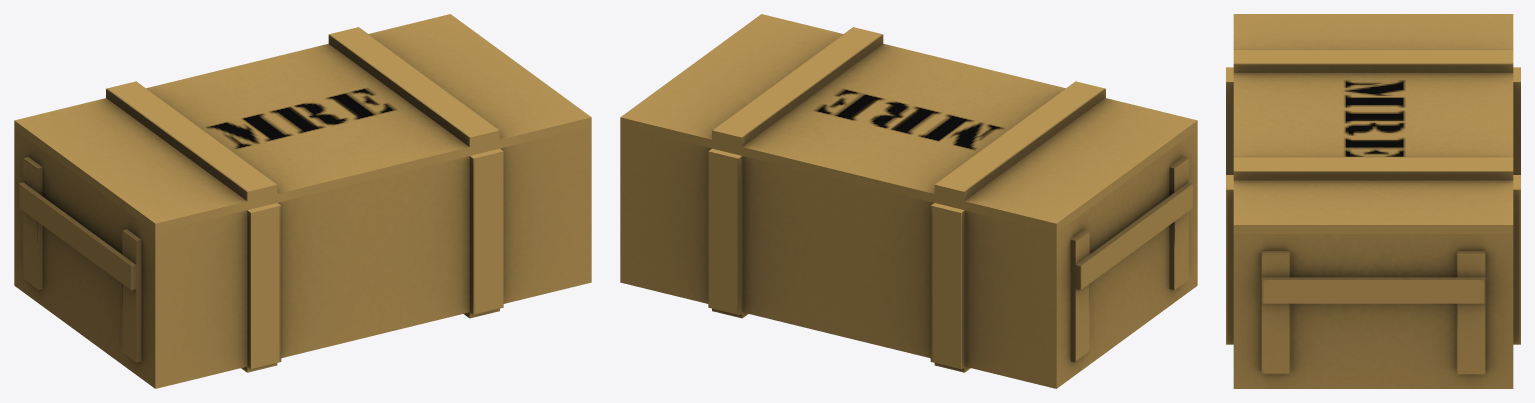
Rendered from Crate_Food.fbx.
3 views of the same model, side by side, from view 1: azimuth 30°, elevation 25°; view 2: azimuth 150°, elevation 25°; view 3: azimuth 270°, elevation 25° (orthographic).
Visible parts, largest first — view 1: Crate_Food, Crate_Med_Top; view 2: Crate_Food, Crate_Med_Top; view 3: Crate_Med_Top, Crate_Food.
Boxes of the visible parts, x1,y1,x2,y2 form: Crate_Food: [14, 126, 591, 388]; Crate_Med_Top: [14, 14, 591, 232]; Crate_Food: [620, 126, 1197, 388]; Crate_Med_Top: [620, 14, 1197, 232]; Crate_Med_Top: [1233, 14, 1513, 233]; Crate_Food: [1226, 67, 1520, 388].
Size of the model in its own units: 21.64 by 8.2 by 12.21.
